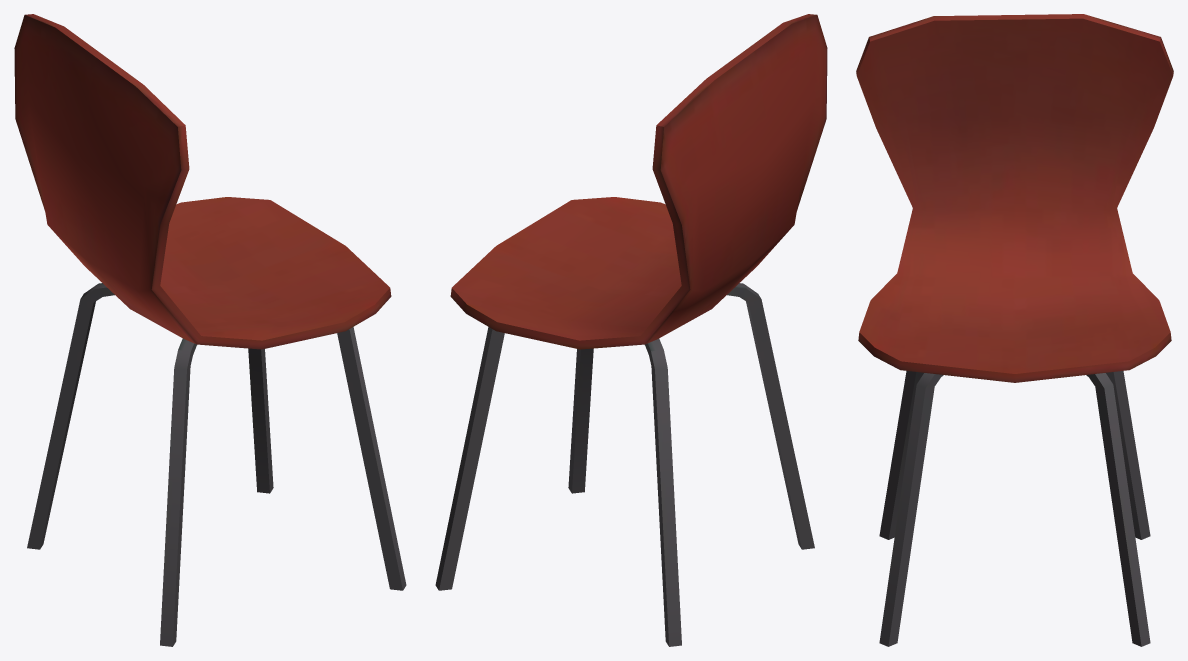
The picture shows the model from 3 angles, left to right: view 1: azimuth 30°, elevation 25°; view 2: azimuth 150°, elevation 25°; view 3: azimuth 270°, elevation 25°; orthographic projection. The views are drawn at different scales.
Parts seen in each view (by area): view 1: body0_model0_lod0_mesh0; view 2: body0_model0_lod0_mesh0; view 3: body0_model0_lod0_mesh0.
Part boxes in pixels (left/top/right/bottom): body0_model0_lod0_mesh0: left=14, top=14, right=406, bottom=646; body0_model0_lod0_mesh0: left=435, top=14, right=827, bottom=646; body0_model0_lod0_mesh0: left=856, top=14, right=1173, bottom=646.
Size of the model in its own units: 23.06 by 43.81 by 24.37.
Materials: 1 (1 with a texture image).
